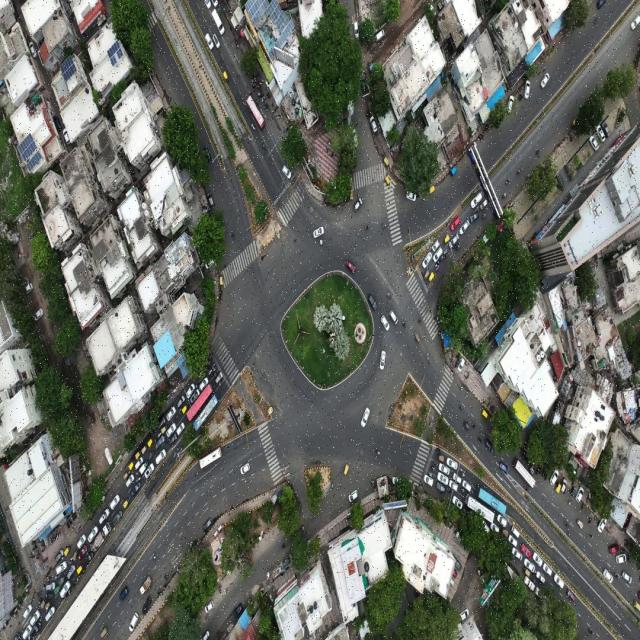3W: (341, 458, 351, 478), (73, 561, 85, 577), (448, 162, 460, 178), (99, 623, 110, 640), (427, 182, 438, 198), (383, 155, 392, 174), (221, 67, 230, 84), (412, 329, 421, 346), (435, 451, 446, 464), (570, 115, 579, 130), (384, 172, 391, 191), (44, 598, 54, 611), (52, 584, 62, 597), (62, 544, 72, 557), (554, 481, 562, 497), (569, 484, 578, 498), (423, 267, 431, 282), (521, 567, 531, 579), (500, 526, 510, 538), (72, 547, 79, 563), (122, 468, 130, 482), (442, 234, 451, 246), (480, 407, 489, 419), (462, 420, 471, 432), (631, 598, 640, 610), (40, 595, 47, 610), (128, 457, 135, 472), (123, 497, 131, 510), (427, 271, 435, 284), (58, 574, 67, 585), (141, 442, 148, 456), (218, 273, 224, 289), (147, 436, 154, 449), (148, 449, 155, 462), (161, 424, 168, 435), (135, 449, 141, 461), (182, 404, 189, 414)
Bus: (192, 394, 220, 439), (185, 382, 214, 423), (475, 481, 508, 517), (465, 490, 497, 526), (511, 453, 537, 491), (246, 93, 268, 133), (196, 450, 225, 472)
Cars: (357, 403, 372, 432), (141, 593, 154, 615), (98, 505, 111, 527), (511, 545, 525, 564), (201, 513, 213, 535), (86, 525, 100, 543), (539, 70, 551, 91), (237, 460, 252, 476), (154, 448, 167, 466), (470, 192, 483, 210), (129, 610, 139, 633), (60, 581, 72, 600), (280, 162, 292, 181), (628, 13, 640, 32), (596, 516, 608, 535), (602, 567, 614, 586), (54, 561, 69, 576), (204, 30, 214, 52), (595, 124, 606, 144), (44, 605, 56, 623), (189, 387, 201, 405), (345, 258, 357, 276), (449, 215, 461, 233), (432, 246, 444, 264), (388, 309, 400, 327), (621, 568, 633, 586), (532, 550, 544, 568), (31, 620, 42, 639), (112, 507, 123, 526), (589, 134, 600, 153), (600, 121, 611, 140), (422, 251, 433, 270), (367, 293, 378, 312), (312, 224, 325, 240), (520, 542, 533, 558), (203, 598, 216, 614), (576, 483, 585, 506), (22, 602, 34, 619), (130, 481, 142, 498), (198, 376, 210, 393), (379, 315, 391, 332), (553, 573, 565, 590), (452, 494, 464, 511), (456, 355, 466, 375), (110, 493, 121, 511), (166, 405, 177, 423), (203, 144, 212, 166), (507, 94, 516, 116), (459, 219, 470, 237), (30, 610, 43, 625), (43, 580, 58, 593), (437, 471, 450, 486), (347, 489, 360, 504), (75, 533, 87, 549), (378, 348, 386, 372), (523, 556, 535, 572), (212, 32, 222, 51), (359, 73, 368, 94), (85, 550, 96, 567), (154, 434, 165, 451), (406, 187, 417, 204), (448, 233, 459, 250), (446, 456, 459, 470), (438, 462, 451, 476), (186, 382, 196, 400), (207, 189, 216, 209), (549, 468, 559, 486), (66, 564, 77, 580), (144, 463, 155, 479), (166, 422, 177, 438), (175, 393, 186, 409), (523, 79, 531, 101), (542, 562, 553, 578), (214, 370, 224, 387), (353, 197, 363, 214), (485, 438, 495, 455), (234, 602, 244, 619), (118, 586, 130, 600), (469, 210, 481, 224), (608, 541, 620, 555), (496, 513, 508, 527), (22, 624, 33, 639), (499, 461, 510, 476), (353, 18, 360, 41), (78, 545, 88, 561), (135, 456, 145, 472), (370, 113, 378, 133), (375, 28, 385, 44), (566, 587, 576, 603), (508, 533, 518, 549), (511, 524, 521, 540), (490, 521, 500, 537), (449, 478, 459, 494), (615, 552, 627, 565), (54, 549, 65, 563), (125, 474, 136, 488), (452, 471, 463, 485), (435, 481, 446, 495), (423, 474, 434, 488), (560, 477, 568, 496), (176, 422, 186, 437), (168, 433, 178, 448), (536, 571, 546, 586), (200, 628, 212, 640), (352, 129, 359, 149), (462, 479, 472, 493), (432, 238, 441, 253), (480, 198, 488, 212), (158, 416, 166, 429)
LCV: (211, 6, 227, 38), (523, 575, 536, 592), (139, 459, 149, 475)
M2W: (586, 625, 596, 637), (151, 550, 160, 562), (278, 539, 286, 552), (565, 527, 572, 539), (362, 222, 371, 231), (68, 556, 74, 569), (580, 500, 586, 513), (457, 383, 464, 394), (480, 130, 486, 142), (374, 448, 382, 457), (37, 597, 44, 607), (592, 16, 599, 26), (500, 191, 507, 201), (457, 403, 464, 413), (563, 519, 570, 529), (459, 484, 466, 494), (426, 468, 433, 478), (67, 516, 73, 527), (534, 147, 540, 158), (523, 483, 529, 494), (299, 522, 305, 533), (45, 573, 52, 582), (79, 568, 86, 577), (380, 221, 387, 230), (503, 178, 510, 187), (429, 463, 436, 472), (231, 230, 237, 240), (250, 121, 256, 131), (386, 291, 392, 301), (627, 551, 632, 563), (446, 484, 452, 494), (329, 482, 335, 492), (623, 538, 630, 546), (72, 511, 77, 522), (36, 552, 42, 561), (65, 521, 71, 530), (177, 407, 183, 416), (207, 368, 213, 377), (470, 421, 476, 430), (542, 461, 545, 479), (531, 577, 537, 586), (460, 471, 466, 480), (73, 580, 78, 590), (261, 141, 266, 151), (481, 212, 486, 222), (439, 254, 444, 264), (477, 435, 482, 445), (613, 571, 618, 581), (36, 591, 43, 598), (44, 591, 51, 598), (52, 532, 56, 544), (57, 526, 60, 542), (85, 548, 91, 556), (88, 541, 94, 549), (515, 168, 521, 176), (536, 465, 540, 477), (433, 460, 439, 468), (248, 90, 253, 99), (276, 112, 281, 121), (478, 135, 483, 144), (456, 243, 461, 252), (453, 242, 458, 251), (443, 247, 448, 256), (435, 259, 440, 268), (401, 319, 406, 328), (53, 576, 60, 582), (208, 353, 214, 360), (259, 79, 265, 86), (434, 266, 441, 272), (620, 547, 626, 554), (68, 587, 72, 597), (50, 535, 54, 545), (132, 467, 137, 475), (588, 515, 592, 525), (436, 446, 441, 454), (539, 464, 542, 477), (147, 434, 153, 440), (234, 44, 240, 50), (255, 97, 259, 106), (518, 88, 522, 97), (165, 438, 170, 445), (141, 473, 145, 481), (273, 106, 277, 114), (136, 477, 141, 483), (251, 77, 256, 83), (519, 97, 524, 103), (443, 254, 448, 260), (532, 460, 535, 470), (33, 544, 37, 551), (136, 469, 140, 476), (146, 478, 150, 485), (154, 438, 158, 445), (158, 432, 162, 439), (218, 380, 222, 387), (211, 357, 215, 364), (261, 97, 265, 104), (252, 83, 255, 92), (254, 80, 259, 85), (175, 414, 179, 420), (195, 384, 199, 390), (213, 371, 217, 377), (213, 366, 217, 372), (212, 363, 216, 369), (267, 94, 271, 100), (264, 101, 267, 109), (266, 104, 269, 112), (545, 470, 547, 482), (211, 372, 214, 379), (256, 82, 259, 89), (257, 85, 261, 90), (258, 92, 263, 96), (522, 449, 524, 459), (524, 451, 526, 461), (270, 104, 273, 110), (266, 92, 269, 96)
Truck: (86, 519, 114, 557)
